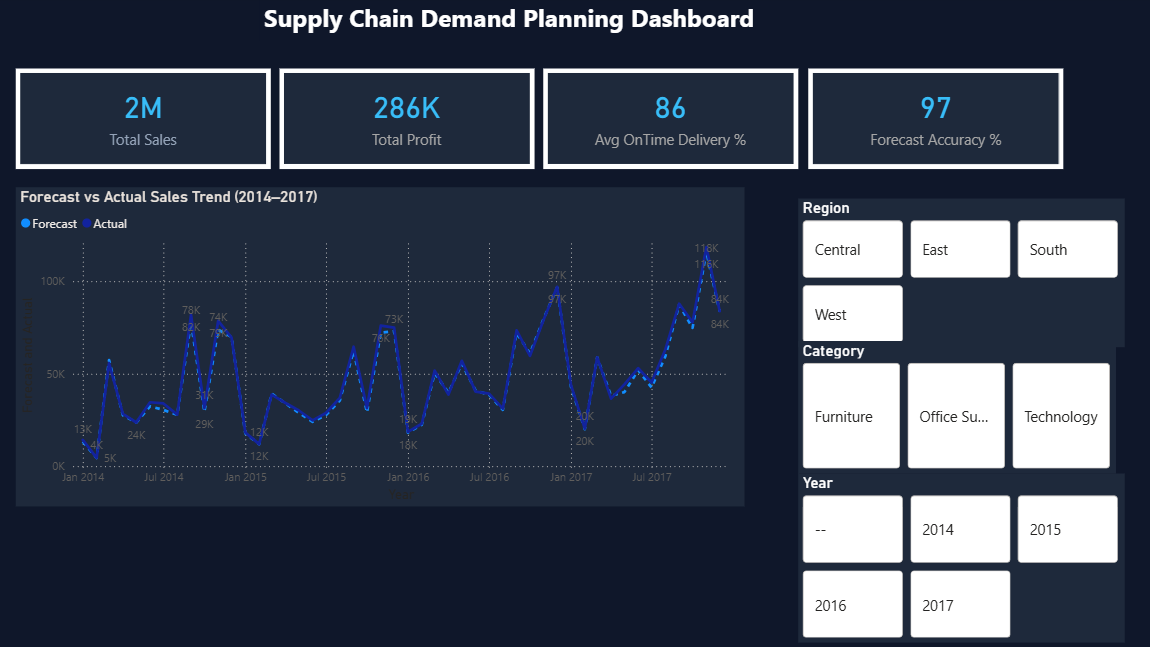

The page's visual inventory and layout, read from the dashboard file:
{"tool":"powerbi","page":{"name":"KPI Overview","canvas":[1280,720],"ordinal":0},"visuals":[{"type":"textbox","box":[288.2,0,595.5,49.4],"z":0},{"type":"advanceCardE03760C5AB684758B56AA29F9E6C257B","fields":{"mainMeasure":["Forecast_vs_Actual.Total Sales"]},"box":[20,80,280,110],"z":1000},{"type":"advanceCardE03760C5AB684758B56AA29F9E6C257B","fields":{"mainMeasure":["Forecast_vs_Actual.Total Profit"]},"box":[310,80,280,110],"z":2000},{"type":"advanceCardE03760C5AB684758B56AA29F9E6C257B","fields":{"mainMeasure":["Forecast_vs_Actual.Avg OnTime Delivery %"]},"box":[600,80,280,110],"z":3000},{"type":"advanceCardE03760C5AB684758B56AA29F9E6C257B","fields":{"mainMeasure":["Forecast_vs_Actual.Forecast Accuracy %"]},"box":[890,80,280,110],"z":4000},{"type":"lineChart","title":"Forecast vs Actual Sales Trend (2014–2017)","fields":{"Y":["Sum(Forecast_vs_Actual.Forecast_Sales)","Sum(Forecast_vs_Actual.Actual_Sales)"],"Category":["Date_Table.Year_Month.Variation.Date Hierarchy.Year","Date_Table.Year_Month.Variation.Date Hierarchy.Quarter","Date_Table.Year_Month.Variation.Date Hierarchy.Month","Date_Table.Year_Month.Variation.Date Hierarchy.Day"]},"box":[20.6,210,800,350],"z":5000},{"type":"advancedSlicerVisual","fields":{"Values":["SampleSuperstore.Region"]},"box":[879.6,222.3,358.1,163.3],"z":6000},{"type":"advancedSlicerVisual","fields":{"Values":["SampleSuperstore.Category"]},"box":[879.6,378.7,348.5,145.5],"z":7000},{"type":"advancedSlicerVisual","fields":{"Values":["Date_Table.Year"]},"box":[879.6,524.2,358.1,185.2],"z":8000}]}

Visuals, with their boxes in screenshot pixels (x1, y1, x2, y2), scaled from the page's 1280x720 canvas onto the 1150x647 screenshot:
textbox: bbox(259, 0, 794, 44)
advanceCardE03760C5AB684758B56AA29F9E6C257B - Forecast_vs_Actual.Total Sales: bbox(18, 72, 270, 171)
advanceCardE03760C5AB684758B56AA29F9E6C257B - Forecast_vs_Actual.Total Profit: bbox(279, 72, 530, 171)
advanceCardE03760C5AB684758B56AA29F9E6C257B - Forecast_vs_Actual.Avg OnTime Delivery %: bbox(539, 72, 791, 171)
advanceCardE03760C5AB684758B56AA29F9E6C257B - Forecast_vs_Actual.Forecast Accuracy %: bbox(800, 72, 1051, 171)
"Forecast vs Actual Sales Trend (2014–2017)" lineChart: bbox(19, 189, 737, 503)
advancedSlicerVisual - SampleSuperstore.Region: bbox(790, 200, 1112, 347)
advancedSlicerVisual - SampleSuperstore.Category: bbox(790, 340, 1103, 471)
advancedSlicerVisual - Date_Table.Year: bbox(790, 471, 1112, 637)
